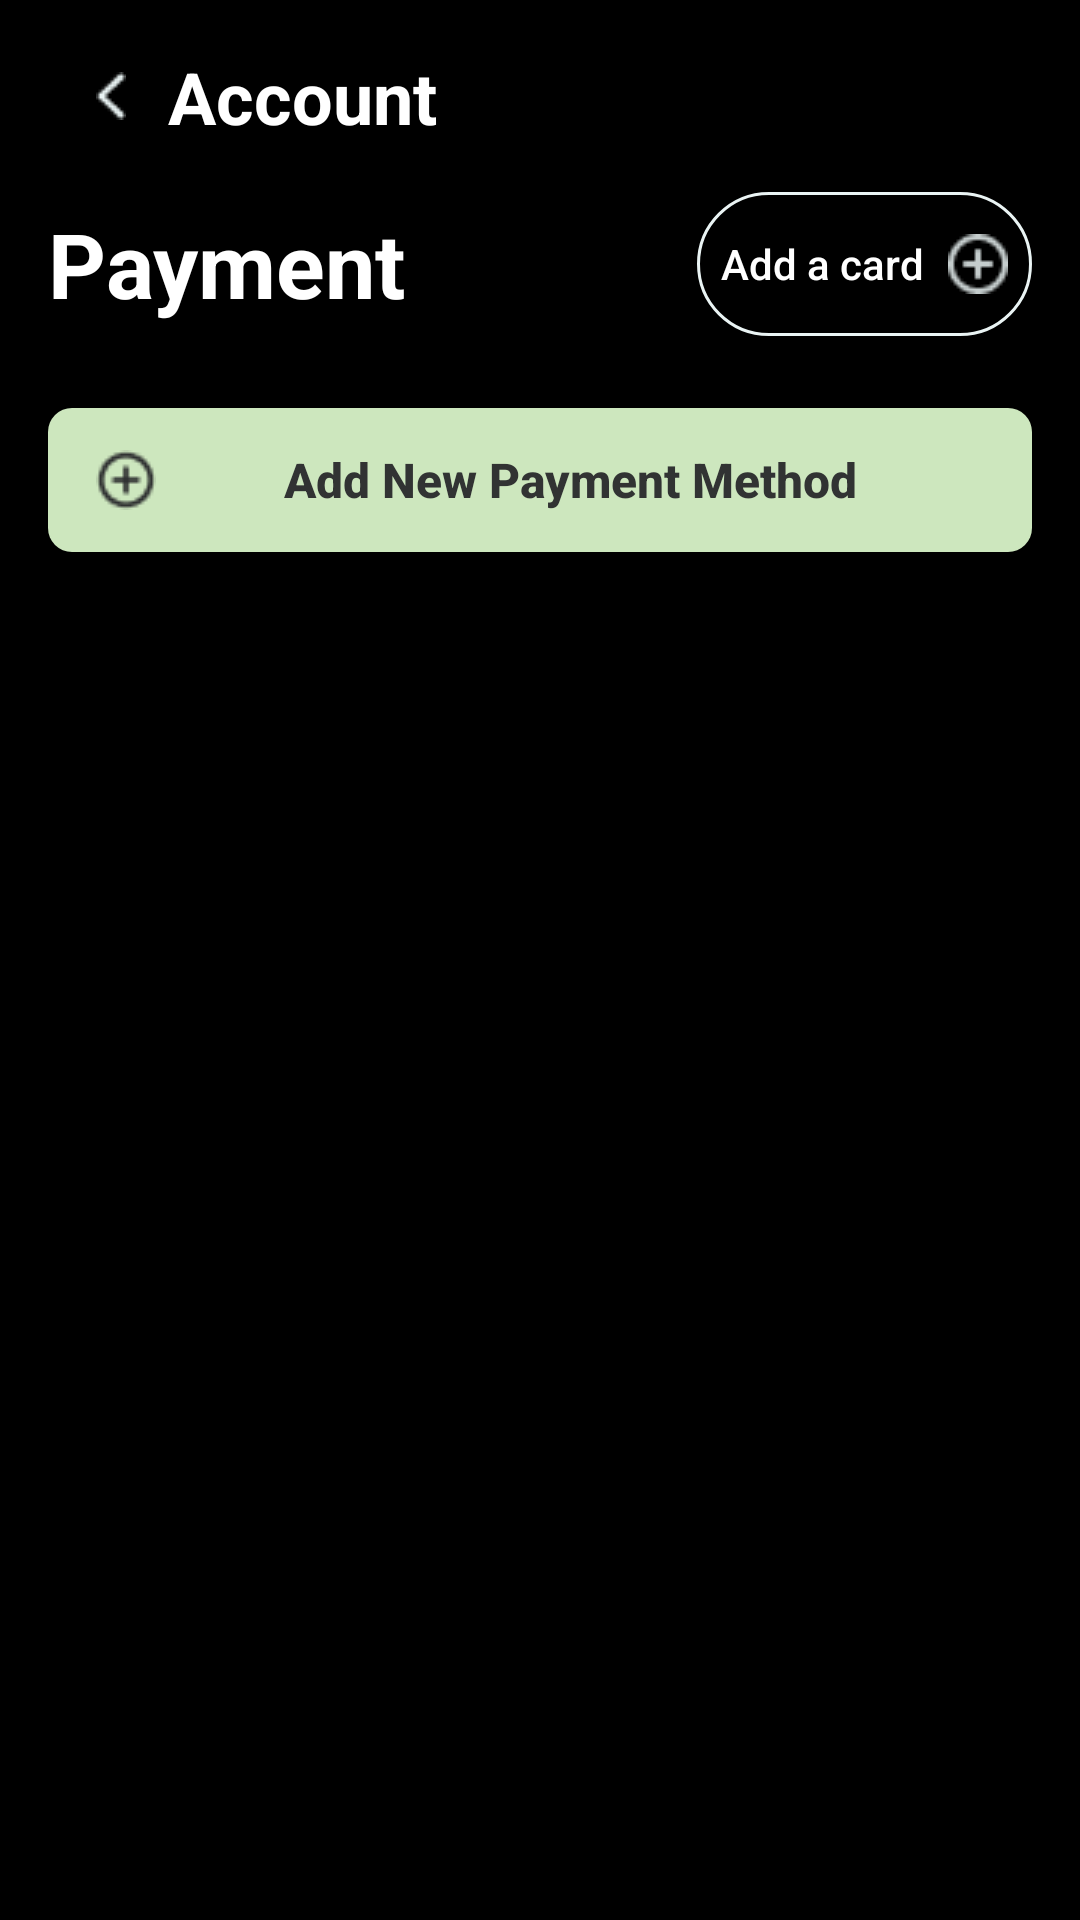

Point at icon controls on the screen. Image size 1080 × 1920, points as (x,y).
back: (111,96)
